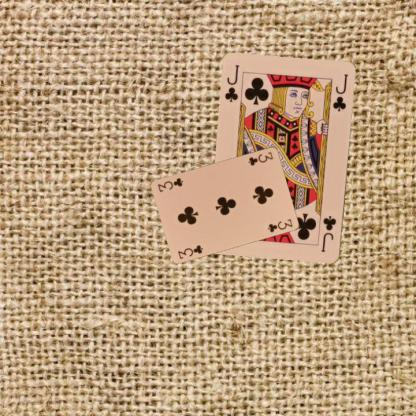3c: (175, 242, 205, 260), (245, 149, 274, 166)
Jc: (318, 213, 338, 254), (222, 62, 241, 104)
